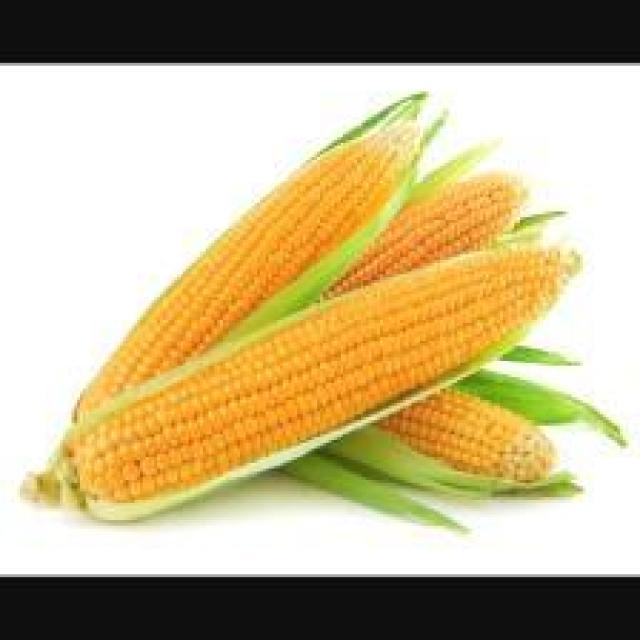corn: (51, 97, 583, 523)
